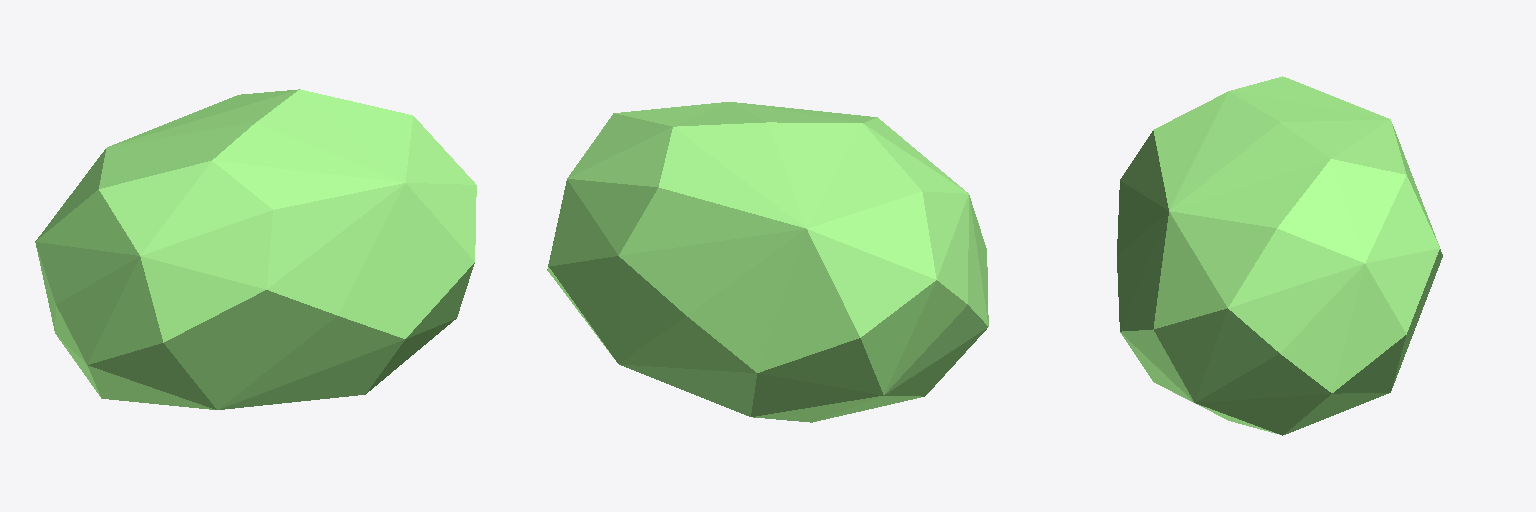
3 views of the same model, side by side, from view 1: azimuth 30°, elevation 25°; view 2: azimuth 150°, elevation 25°; view 3: azimuth 270°, elevation 25° (orthographic).
Visible parts, largest first — view 1: 立方体; view 2: 立方体; view 3: 立方体.
Boxes of the visible parts, x1=… form: 立方体: x1=35, y1=89, x2=476, y2=409; 立方体: x1=547, y1=102, x2=988, y2=422; 立方体: x1=1117, y1=76, x2=1442, y2=435.
Bounding box in the file's own units: 5.77 × 3.68 × 4.08.
1 materials, 1 textured.